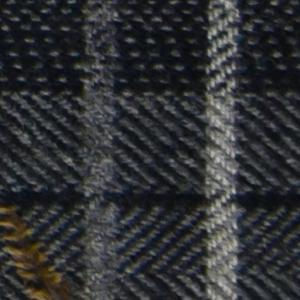Damage: (21, 254, 73, 300)
Oil Stain: (1, 199, 77, 300)
